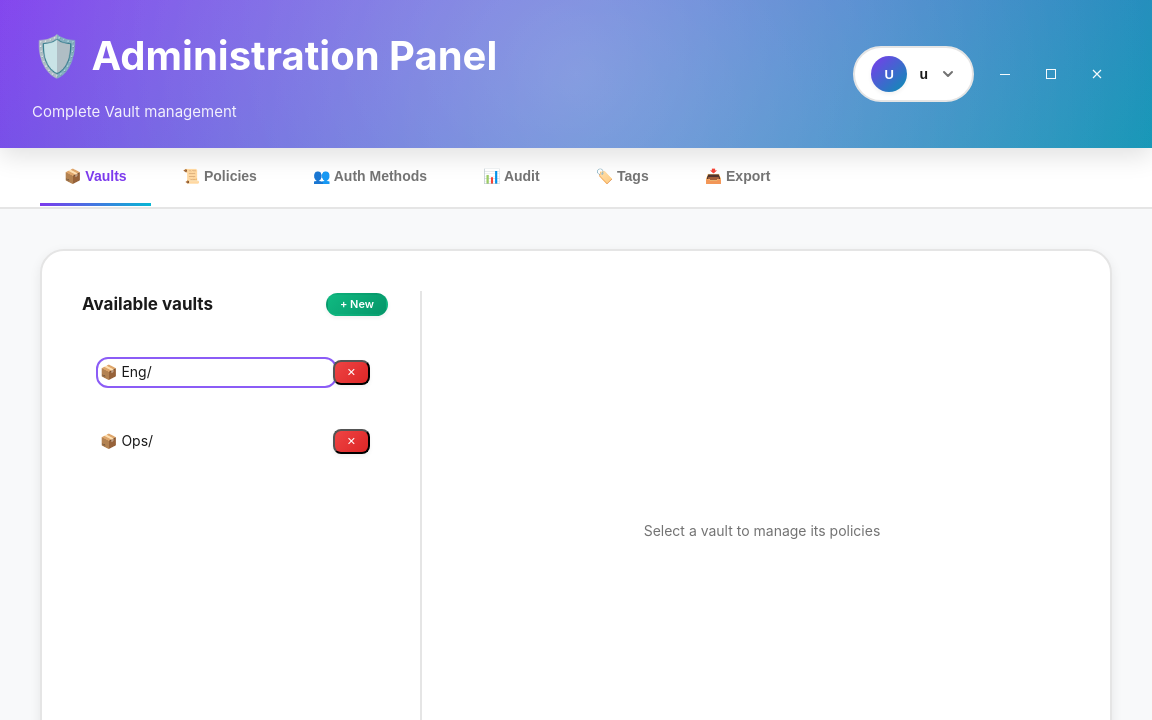
UI-31 — listes utilisables au clavier › Coffres : chaque coffre est un bouton focalisable ; activation = sélection (aria-current)
This screenshot has width=1152, height=720.
Step 1. Click the button with class "admin-item-select" showing "📦 Eng/" → (216, 373), box [100,362,333,384]
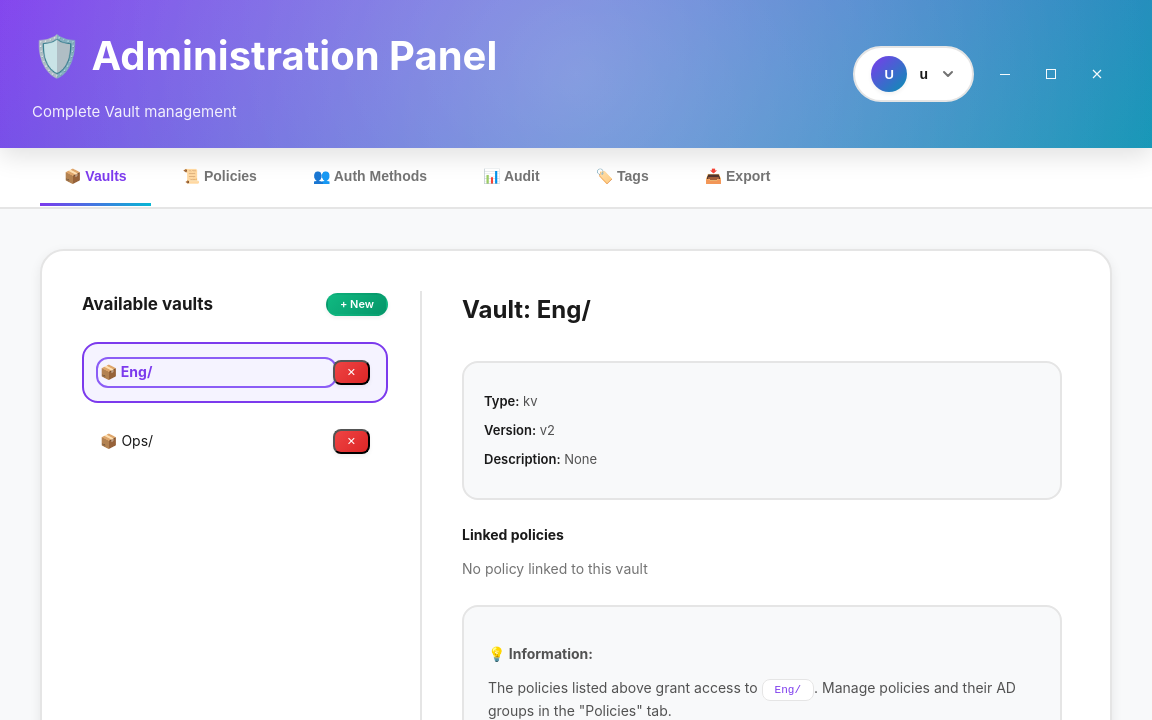
Expected: the heading "Vault: Eng/" is shown, [462,295,591,324]
